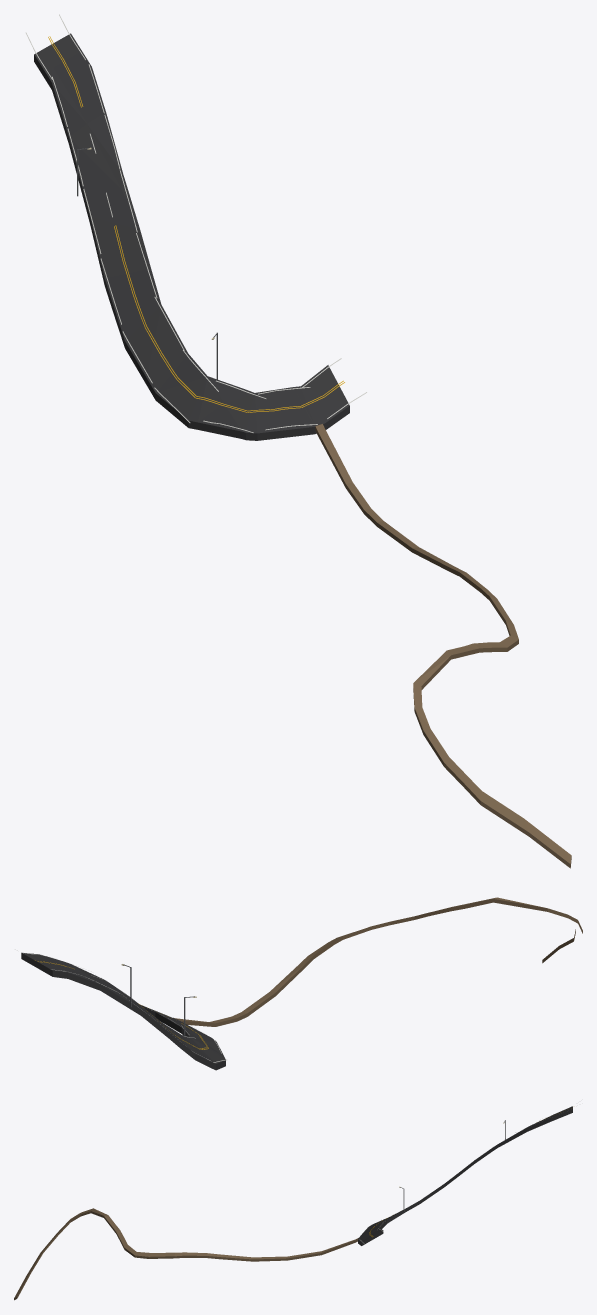
File: 15-27369-14864.11fad4da.glb
3 views of the same model, one above another, from view 1: azimuth 30°, elevation 25°; view 2: azimuth 150°, elevation 25°; view 3: azimuth 270°, elevation 25° (orthographic). The views are drawn at different scales.
Bounding box in the file's own units: 40.11 × 68.2 × 166.
